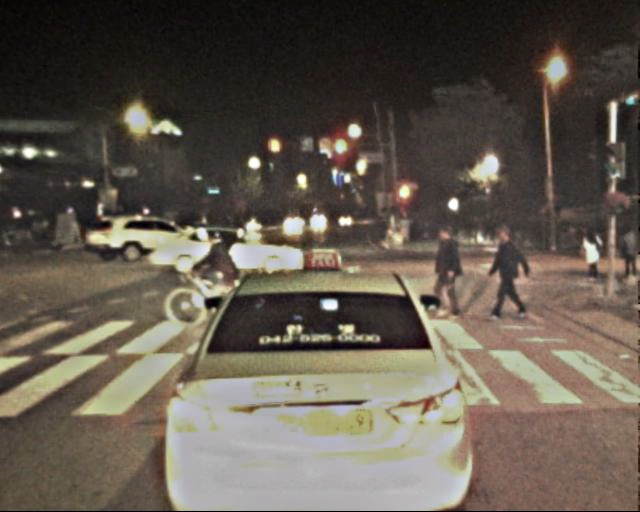person: (489, 227, 529, 325), (429, 226, 468, 322), (199, 229, 237, 321), (578, 228, 603, 290), (615, 229, 636, 281)
